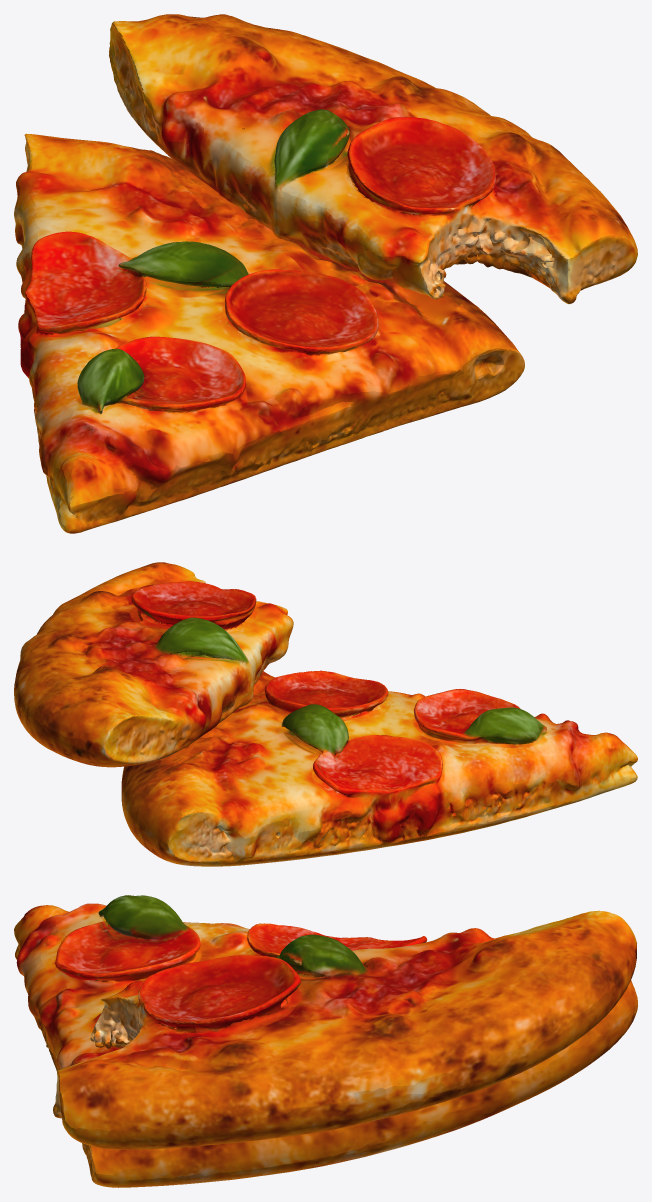
The model's file is pepperoni-pizza-3.glb.
3 renders of one model, top to bottom at view 1: azimuth 30°, elevation 25°; view 2: azimuth 150°, elevation 25°; view 3: azimuth 270°, elevation 25°, orthographic. The views are drawn at different scales.
Visible parts, largest first — view 1: geometry_0; view 2: geometry_0; view 3: geometry_0.
Part boxes in pixels (left/top/right/bottom): geometry_0: left=14, top=14, right=637, bottom=533; geometry_0: left=14, top=562, right=637, bottom=866; geometry_0: left=14, top=895, right=637, bottom=1187.
Bounding box in the file's own units: 0.28 × 0.1014 × 0.2483.
Materials: 1 (1 with a texture image).
